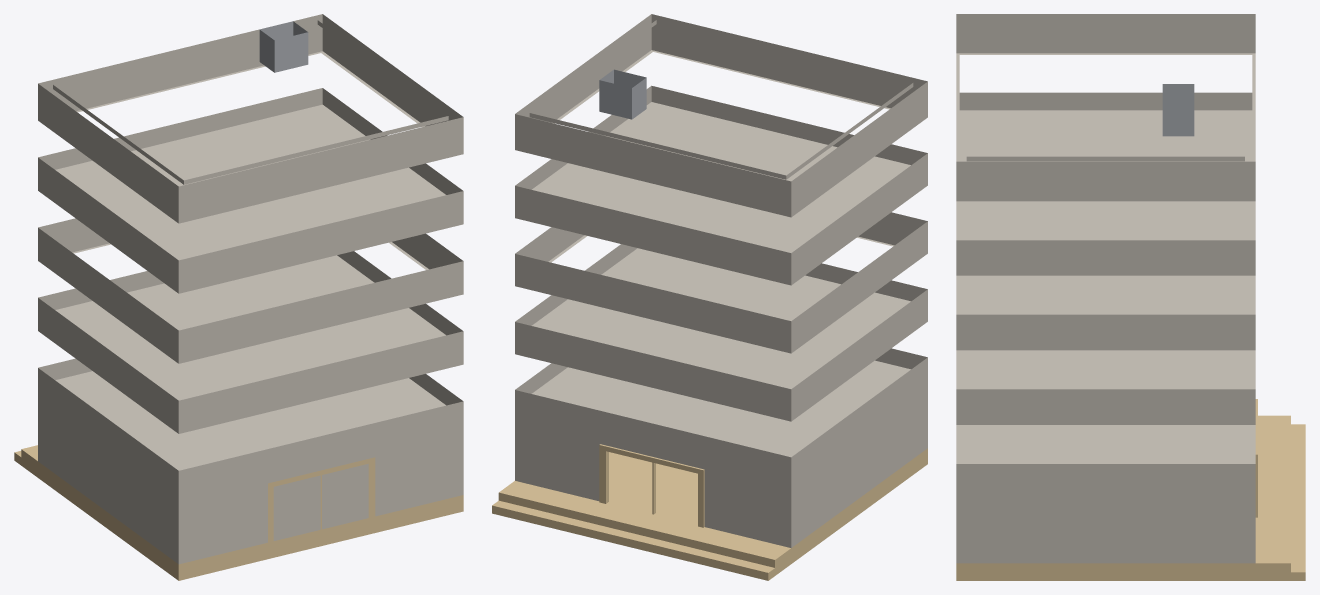
Rendered from Bld_R_high_L4_C.fbx.
3 renders of one model, left to right at view 1: azimuth 30°, elevation 25°; view 2: azimuth 150°, elevation 25°; view 3: azimuth 270°, elevation 25°, orthographic. The views are drawn at different scales.
Parts seen in each view (by area): view 1: Bld_R_high_L4_C_LOD0; view 2: Bld_R_high_L4_C_LOD0; view 3: Bld_R_high_L4_C_LOD0.
Boxes of the visible parts, x1,y1,x2,y2 form: Bld_R_high_L4_C_LOD0: [14, 14, 463, 580]; Bld_R_high_L4_C_LOD0: [492, 14, 927, 580]; Bld_R_high_L4_C_LOD0: [956, 14, 1305, 580].
Size of what is drawn, in the model's own units: 2200 by 3429 by 2200.
Materials: 1 (1 with a texture image).
